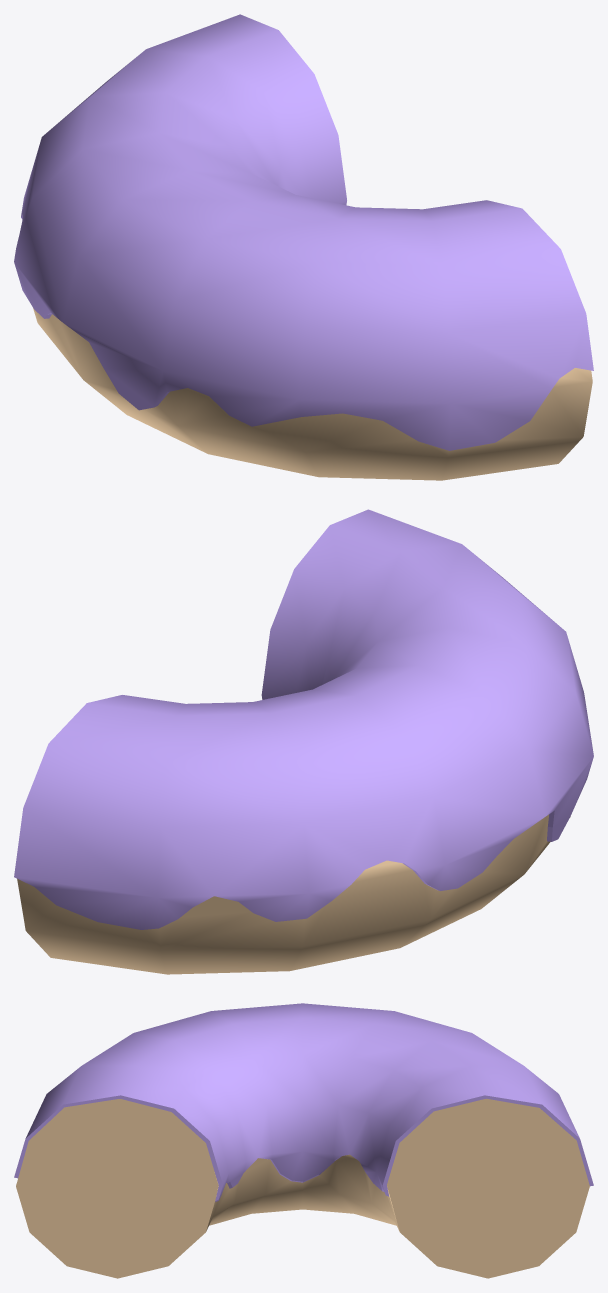
The model's file is pink_donut_cut.glb.
3 renders of one model, top to bottom at view 1: azimuth 30°, elevation 25°; view 2: azimuth 150°, elevation 25°; view 3: azimuth 270°, elevation 25°, orthographic. The views are drawn at different scales.
Visible parts, largest first — view 1: HalfGlaze, HalfDonut; view 2: HalfGlaze, HalfDonut; view 3: HalfDonut, HalfGlaze.
Boxes of the visible parts, box(x1,y1,x2,y2) form: HalfGlaze: box(14, 14, 593, 450); HalfDonut: box(33, 308, 592, 480); HalfGlaze: box(14, 509, 593, 929); HalfDonut: box(17, 814, 570, 974); HalfDonut: box(16, 1098, 589, 1278); HalfGlaze: box(14, 1003, 593, 1201).
Size of the model in its own units: 1.57 by 1.09 by 3.13.
2 materials, 2 textured.
